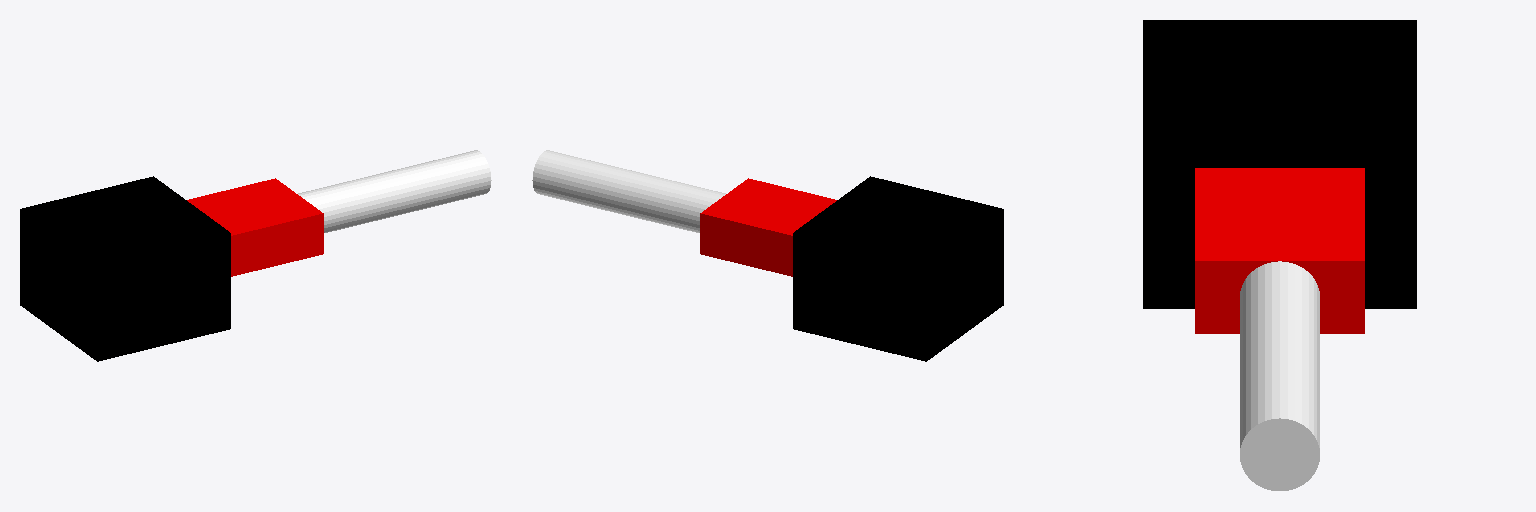
The robot description file, URDF, robot "myfirst":
<?xml version="1.0"?>
<robot name="myfirst">
  <material name="blue">
    <color rgba="0 0 0.8 1"/>
  </material>

  <material name="black">
    <color rgba="0 0 0 0.9"/>
  </material>

  <material name="red">
    <color rgba="1 0 0 1"/>
  </material>

  <material name="white">
    <color rgba="1 1 1 0.9"/>
  </material>

  <link name="base_link">
    <visual>
      <geometry>
        <box size="0.136 0.136 0.09441" />
      </geometry>
      <material name="black"/>
      <origin rpy="0 0 0" xyz="0 0 -0.01"/>
    </visual>
  </link>

  <link name="femur_1">
    <visual>
      <geometry>
        <box size="0.127 0.0848 0.04"/>
      </geometry>
      <material name="red"/>
      <origin xyz="0.0635 0 0" rpy="0 0 0"/>
    </visual>
  </link>

  <link name="tibia_1">
    <visual>
      <geometry>
        <cylinder length="0.18435" radius="0.02"/>
      </geometry>
      <material name="white"/>
      <origin rpy="0 1.57075 0" xyz="0.092175 0 0"/>
    </visual>
  </link>

  <joint name="motor_f1" type="revolute">
    <parent link="base_link"/>
    <child link="femur_1"/>
    <axis xyz="0 1 0"/>
    <origin rpy="0 0 0" xyz="0.0508 0 0"/>
    <limit effort="1000.0" lower="-0.5" upper="0.8" velocity="0.5"/>
  </joint>

  <joint name="motor_t1" type="revolute">
    <parent link="femur_1"/>
    <child link="tibia_1"/>
    <axis xyz="0 1 0"/>
    <origin rpy="0 0 0" xyz="0.127 0 0"/>
    <limit effort="1000.0" lower="-0.5" upper="0.8" velocity="0.5"/>
  </joint>

</robot>

--- What the picture shows (computed from the rendered views, not written in the file) ---
3 views of the same robot in one strip: view 1: azimuth 30°, elevation 25°; view 2: azimuth 150°, elevation 25°; view 3: azimuth 270°, elevation 25° (orthographic).
Model myfirst with 3 links and 2 joints (2 revolute), rooted at base_link, posed all joints at 0.
Links seen in each view (by area): view 1: base_link, femur_1, tibia_1; view 2: base_link, femur_1, tibia_1; view 3: base_link, femur_1, tibia_1.
Boxes of the visible links, x1=… form: base_link: x1=20, y1=176, x2=230, y2=361; femur_1: x1=187, y1=178, x2=323, y2=276; tibia_1: x1=298, y1=150, x2=491, y2=232; base_link: x1=793, y1=176, x2=1003, y2=361; femur_1: x1=700, y1=178, x2=836, y2=276; tibia_1: x1=532, y1=150, x2=725, y2=232; base_link: x1=1143, y1=20, x2=1416, y2=308; femur_1: x1=1195, y1=168, x2=1364, y2=333; tibia_1: x1=1240, y1=261, x2=1319, y2=490.
Size in the robot's own frame: 0.4302 by 0.136 by 0.0944 metres.
Geometry: primitives only (box / cylinder / sphere), no mesh files.
